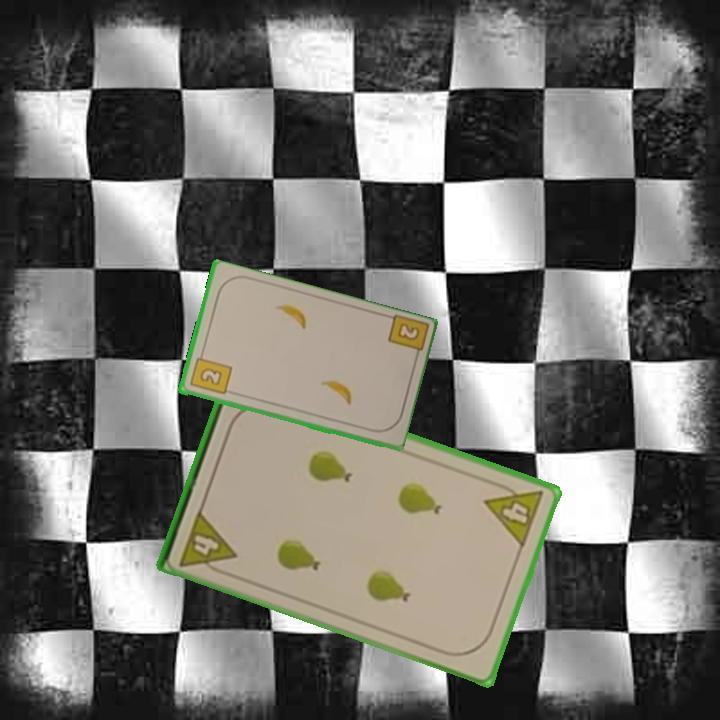2b: (186, 349, 234, 398), (384, 312, 429, 364)
4p: (481, 476, 547, 551), (175, 506, 239, 579)
